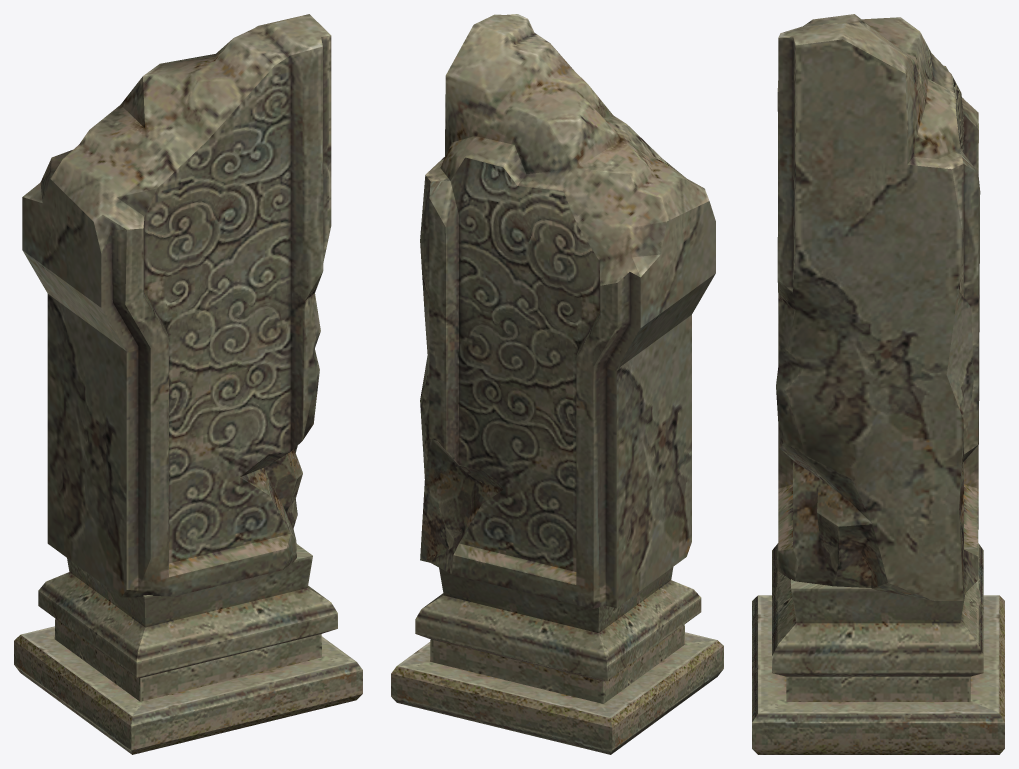
The model's file is Scene_Build_TaZiShaMo_PoSunShiZhu_2.FBX.
3 views of the same model, side by side, from view 1: azimuth 30°, elevation 25°; view 2: azimuth 150°, elevation 25°; view 3: azimuth 270°, elevation 25° (orthographic). The views are drawn at different scales.
Parts seen in each view (by area): view 1: Scene_Build_TaZiShaMo_PoSunShiZhu_2; view 2: Scene_Build_TaZiShaMo_PoSunShiZhu_2; view 3: Scene_Build_TaZiShaMo_PoSunShiZhu_2.
Part boxes in pixels (<box>): Scene_Build_TaZiShaMo_PoSunShiZhu_2: <box>14,14,362,754</box>; Scene_Build_TaZiShaMo_PoSunShiZhu_2: <box>391,14,723,754</box>; Scene_Build_TaZiShaMo_PoSunShiZhu_2: <box>752,14,1004,754</box>.
Bounding box in the file's own units: 263 × 682 × 220.
